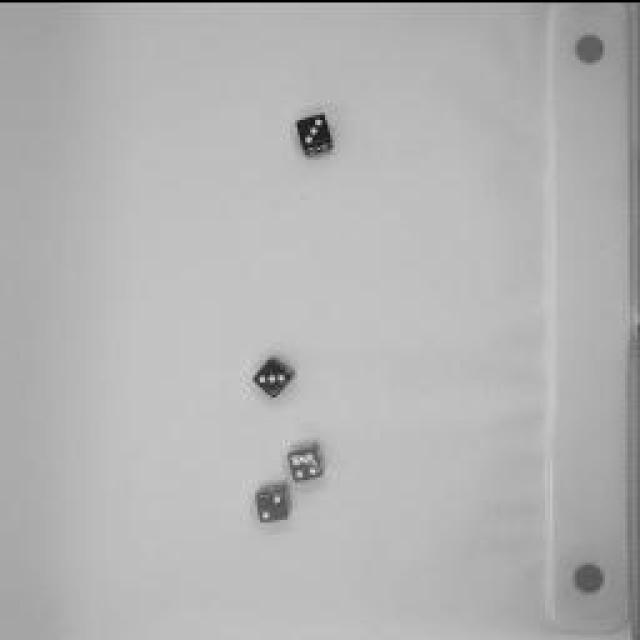dice_2: (252, 474, 296, 526)
dice_3: (249, 349, 301, 399), (290, 109, 338, 161)
dice_4: (281, 438, 334, 482)
